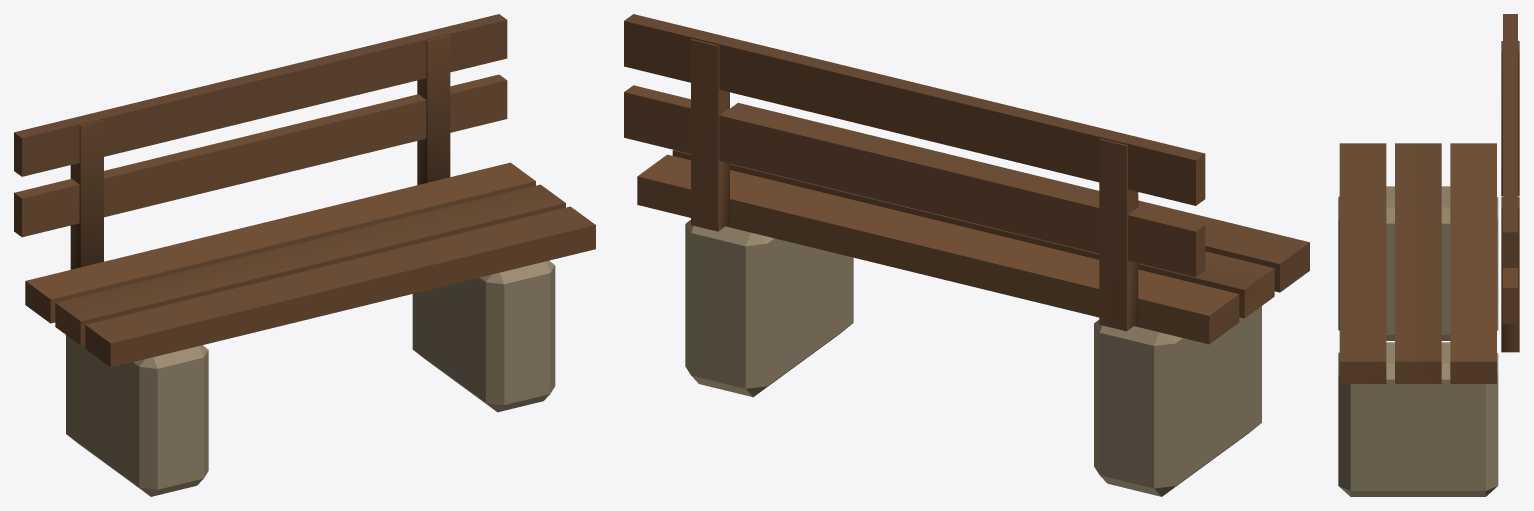
File: Bench.glb
3 views of the same model, side by side, from view 1: azimuth 30°, elevation 25°; view 2: azimuth 150°, elevation 25°; view 3: azimuth 270°, elevation 25° (orthographic). The views are drawn at different scales.
Parts seen in each view (by area): view 1: Seat, Legs; view 2: Seat, Legs; view 3: Seat, Legs.
Boxes of the visible parts, x1=… form: Seat: x1=14, y1=14, x2=595, y2=367; Legs: x1=66, y1=260, x2=555, y2=496; Seat: x1=624, y1=14, x2=1309, y2=344; Legs: x1=685, y1=219, x2=1261, y2=496; Seat: x1=1339, y1=14, x2=1519, y2=383; Legs: x1=1338, y1=186, x2=1498, y2=496.
Size of the model in its own units: 4.2 by 2.56 by 1.47.
